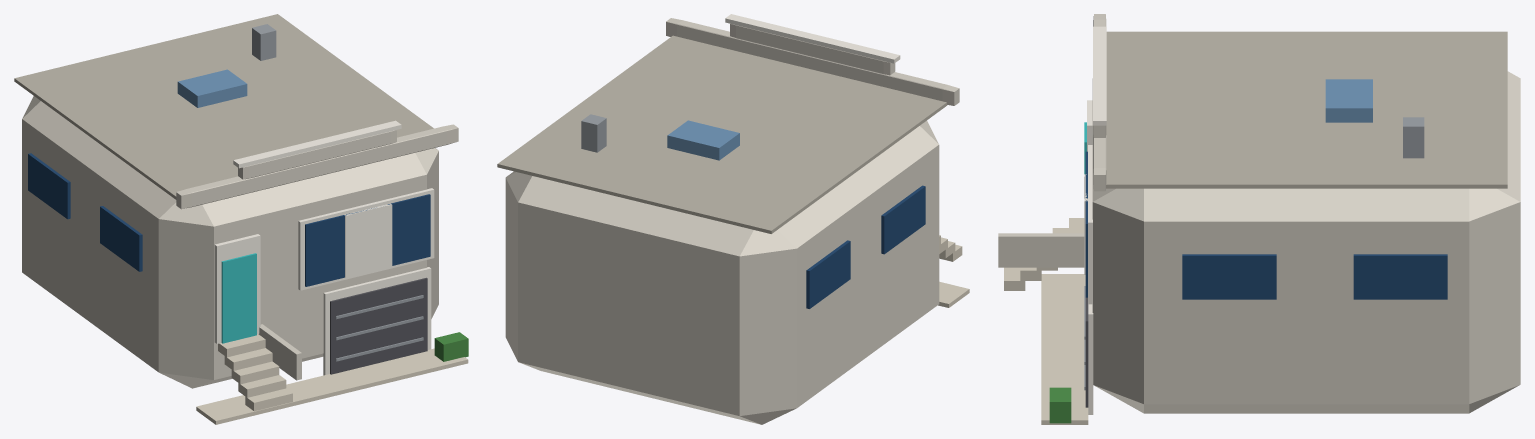
The model's file is sunset_w9_stepped_pic_m.glb.
3 views of the same model, side by side, from view 1: azimuth 30°, elevation 25°; view 2: azimuth 150°, elevation 25°; view 3: azimuth 270°, elevation 25° (orthographic). The views are drawn at different scales.
Parts seen in each view (by area): view 1: walls, roofslab, gdoor, pwin, pp1, patio, door, pmull, pp2, gfr, pfr, dfr (+12 smaller); view 2: walls, roofslab, pp1, pp2, skylt, sb, sb.002, pcap, pipe, patio; view 3: walls, roofslab, patio, sb.001, sb.003, srail, skylt, pcap, pp1, pipe, hedge, pfr (+1 smaller).
Part boxes in pixels (x1,y1,x2,y2): walls: (22, 96, 438, 388); roofslab: (14, 14, 433, 199); gdoor: (330, 277, 427, 374); pwin: (305, 194, 430, 286); pp1: (176, 124, 458, 209); patio: (196, 348, 468, 424); door: (221, 253, 256, 343); pmull: (349, 204, 388, 276); pp2: (238, 130, 396, 179); gfr: (323, 267, 431, 375); pfr: (298, 188, 434, 290); dfr: (214, 234, 260, 343); walls: (505, 120, 939, 424); roofslab: (497, 35, 947, 233); pp1: (666, 18, 959, 105); pp2: (730, 23, 895, 75); skylt: (667, 120, 739, 160); sb: (881, 185, 925, 254); sb.002: (806, 240, 850, 308); pcap: (725, 14, 900, 63); pipe: (581, 114, 606, 152); patio: (938, 281, 969, 307); walls: (1092, 71, 1520, 413); roofslab: (1106, 31, 1507, 188); patio: (1041, 274, 1088, 424); sb.001: (1182, 254, 1276, 299); sb.003: (1353, 254, 1447, 299); srail: (998, 233, 1084, 267); skylt: (1325, 79, 1372, 122); pcap: (1093, 26, 1106, 125); pp1: (1093, 14, 1106, 191); pipe: (1403, 117, 1424, 158); hedge: (1049, 387, 1071, 423); pfr: (1088, 145, 1092, 304).
Bounding box in the file's own units: 9.2 × 7.17 × 12.2.
